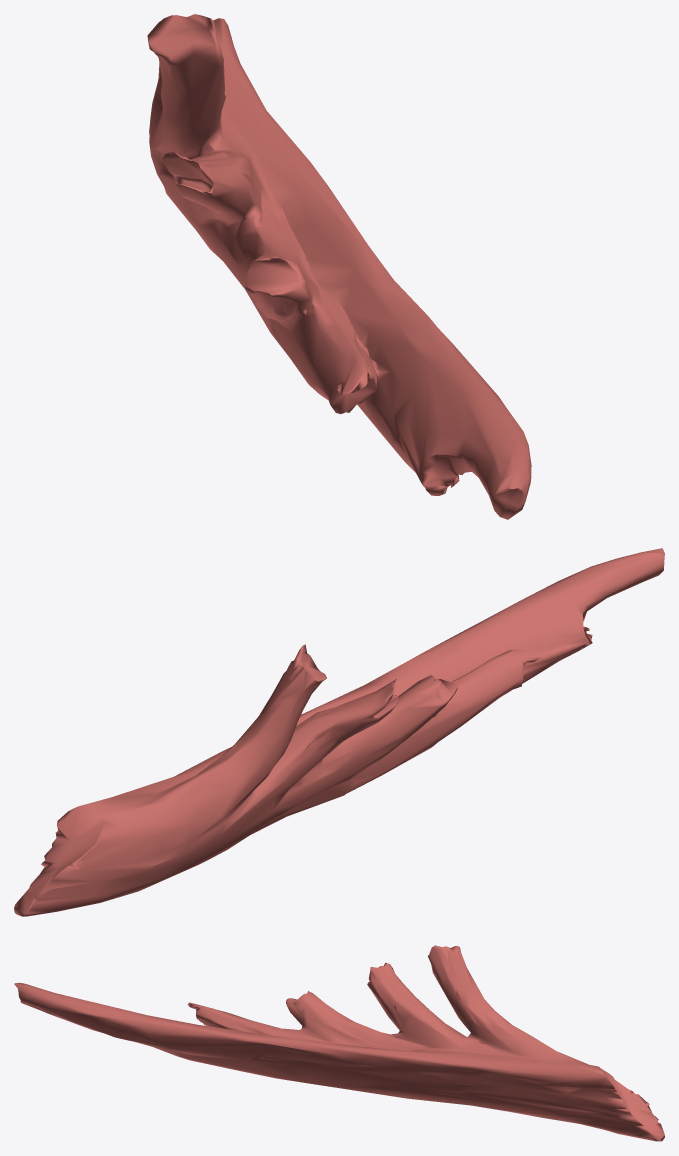
3 renders of one model, top to bottom at view 1: azimuth 30°, elevation 25°; view 2: azimuth 150°, elevation 25°; view 3: azimuth 270°, elevation 25°, orthographic. The views are drawn at different scales.
Visible parts, largest first — view 1: 左侧中斜角肌; view 2: 左侧中斜角肌; view 3: 左侧中斜角肌.
Boxes of the visible parts, box(x1,y1,x2,y2) form: 左侧中斜角肌: box(147, 14, 531, 519); 左侧中斜角肌: box(14, 548, 664, 916); 左侧中斜角肌: box(14, 945, 664, 1141).
Size of the model in its own units: 0.0445 by 0.0369 by 0.1461.
